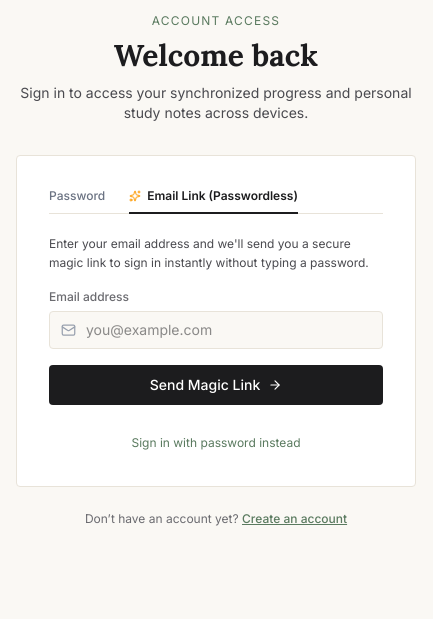
it: Passwordless Email Magic Link Authentication › SignInPage - Magic Link Flow › handles non-existent user error by preventing account creation and prompting sign up
The width and height of the screenshot is (433, 619).
Type "unregistered@example.com" into the field with placeholder "you@example.com" at (216, 330), box x1=49 y1=310 x2=383 y2=348
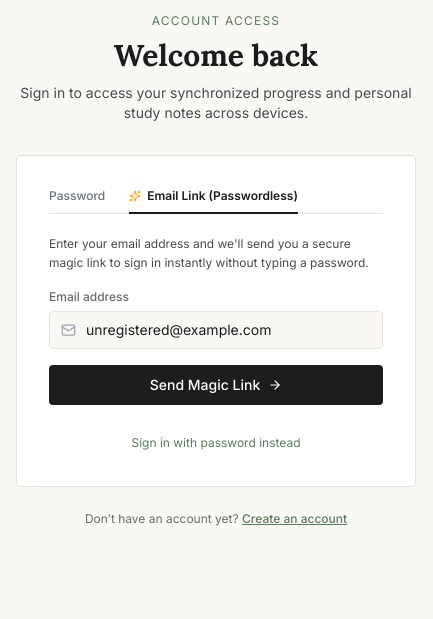
Click the button "Send Magic Link" at (216, 384), box x1=49 y1=364 x2=383 y2=404
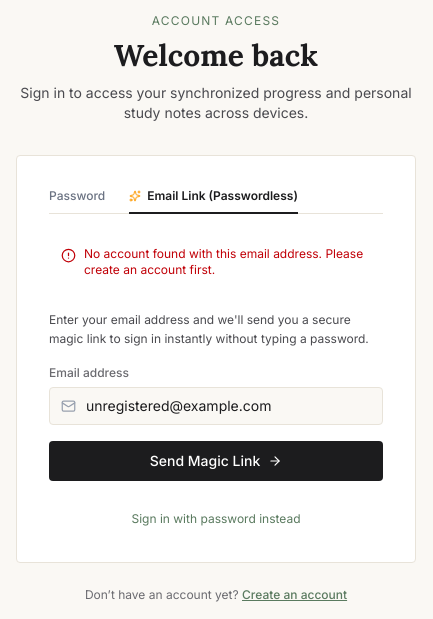
Check: the text "No account found with this email address. Please create an account first." is shown, box x1=84 y1=246 x2=371 y2=278
